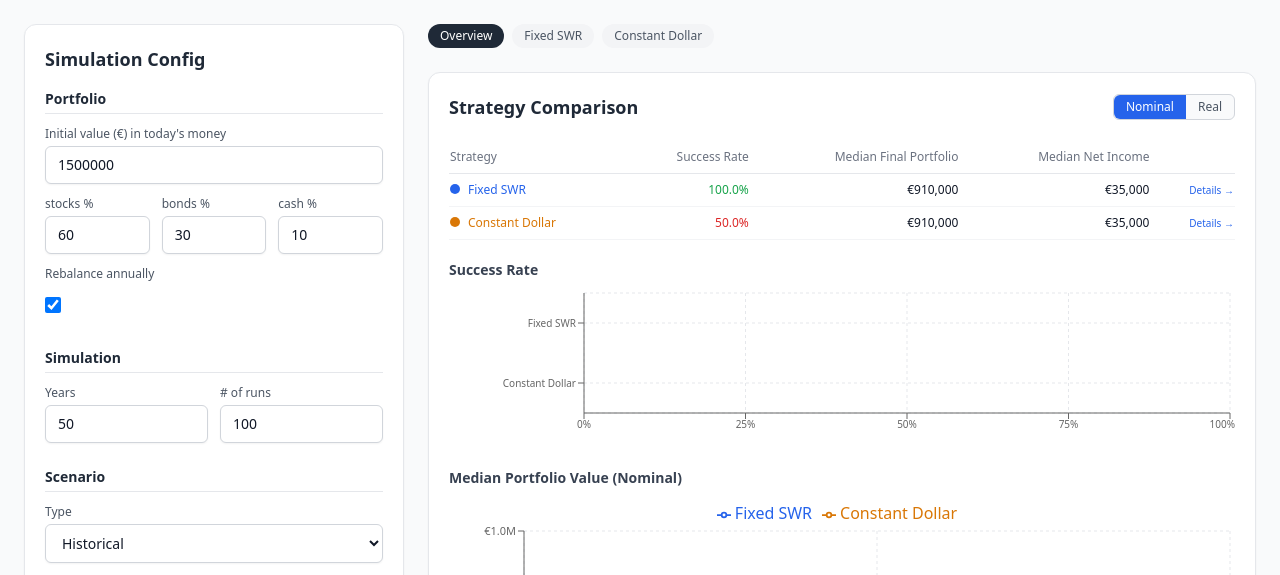
SimulationPage › multi-strategy results › returns to overview when Overview tab is clicked
// Click into a strategy
Click the button "Fixed SWR". click: (553,36)
box: [512,24,594,48]
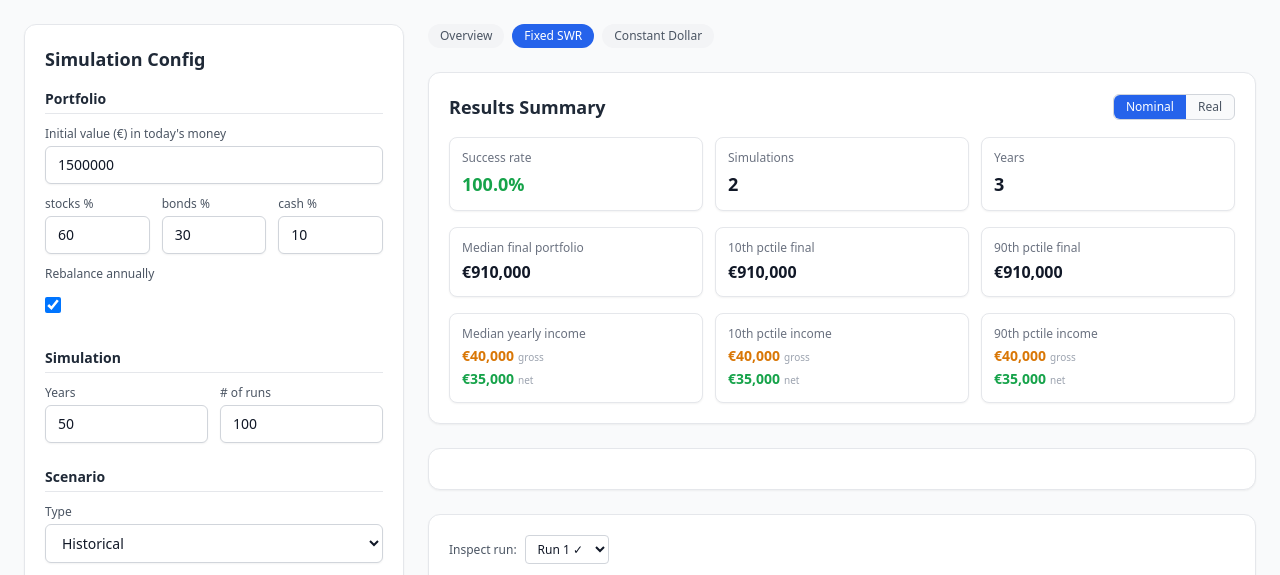
Now the heading "Results Summary" is shown, box [449,93,606,121]
// Click back to overview
Click the button "Overview". click: (466,36)
box: [428,24,504,48]
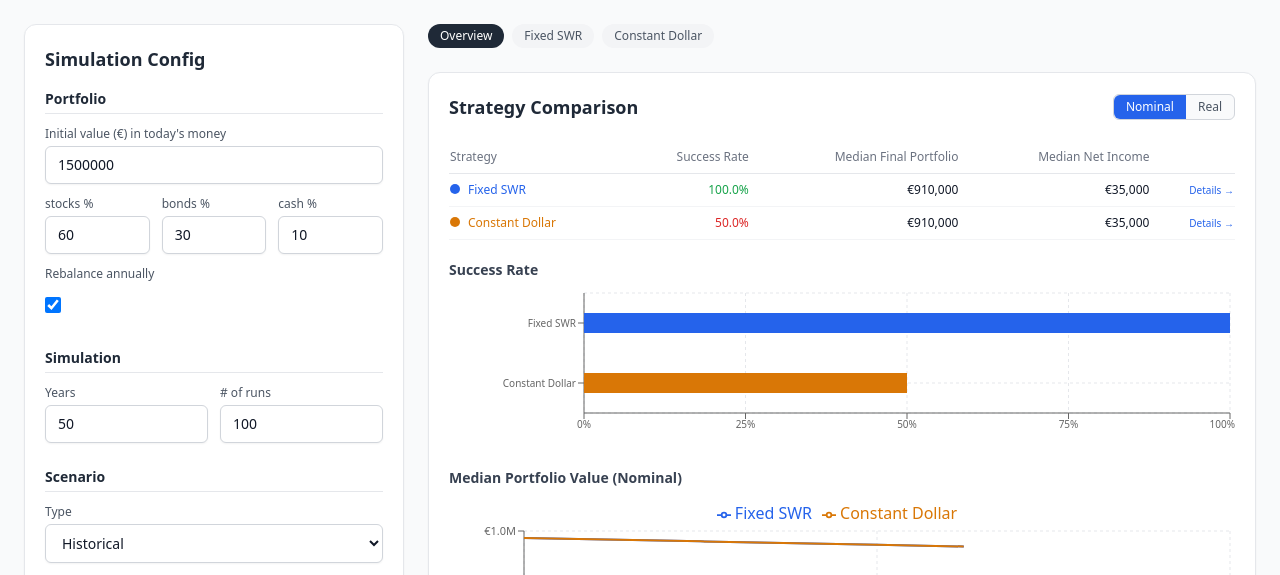
Now the heading "Results Summary" is gone
